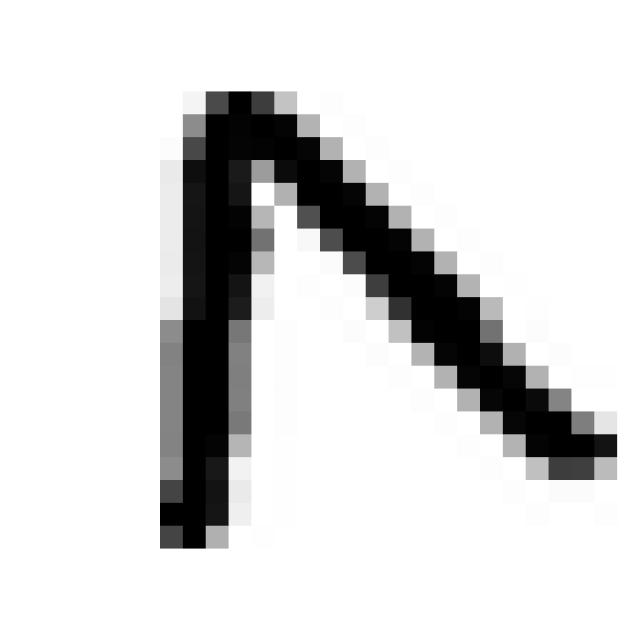8 -eight-: (130, 64, 633, 574)
